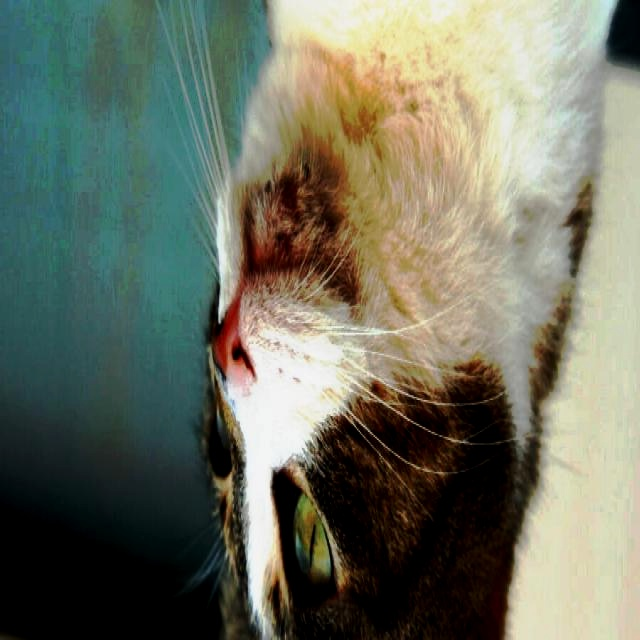acne: (255, 157, 333, 261)
